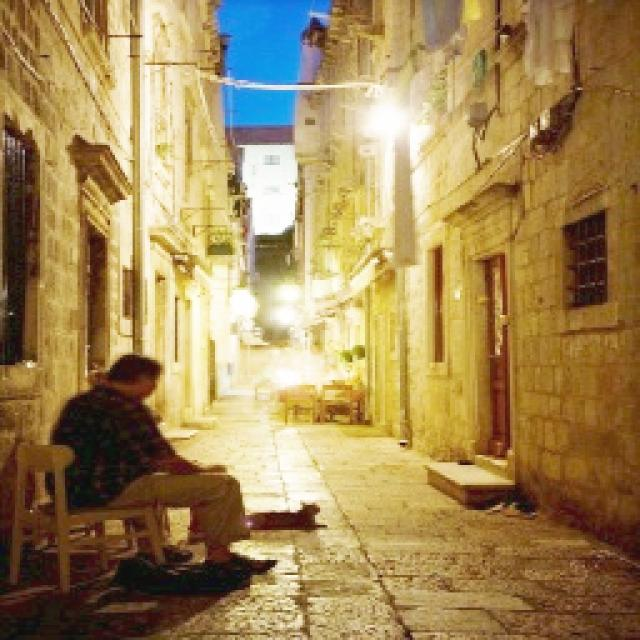cat: (240, 497, 334, 539)
